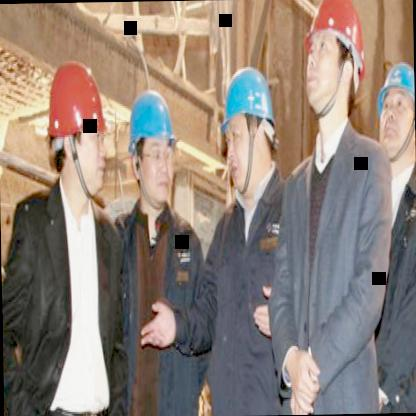helmet: (296, 0, 366, 125), (42, 57, 104, 198), (220, 58, 278, 186), (121, 80, 174, 206), (372, 57, 416, 155)
